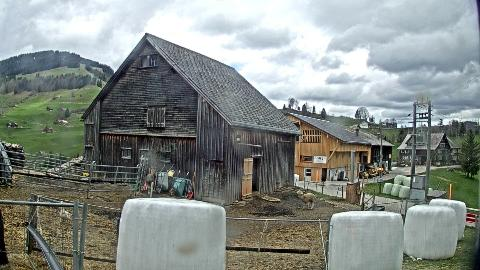sheep: (296, 190, 316, 210)
